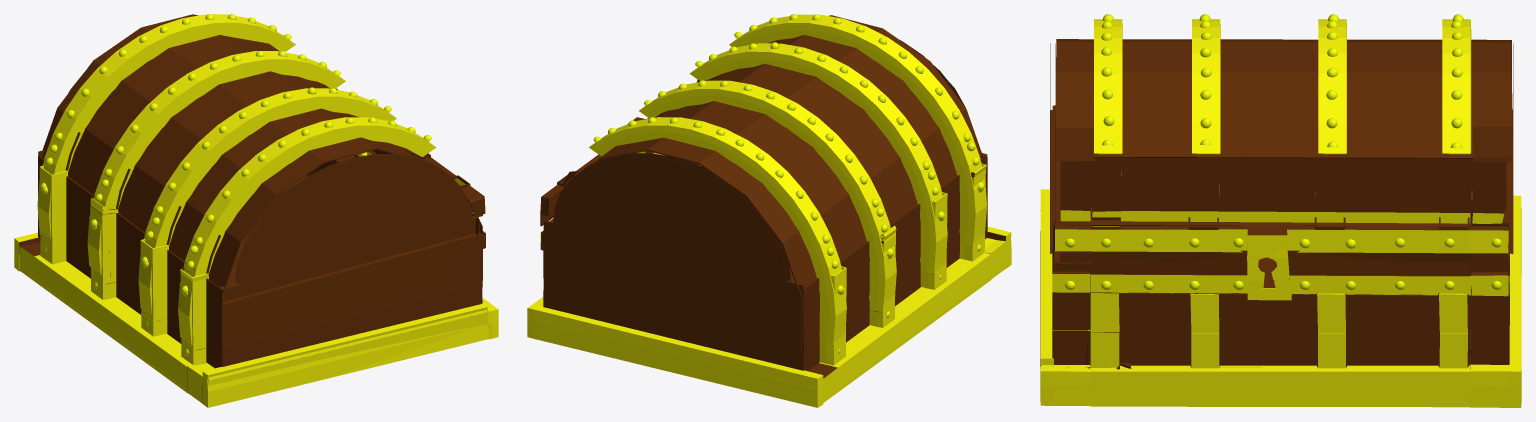
File: Treasure Box.fbx
3 views of the same model, side by side, from view 1: azimuth 30°, elevation 25°; view 2: azimuth 150°, elevation 25°; view 3: azimuth 270°, elevation 25° (orthographic). The views are drawn at different scales.
Visible parts, largest first — view 1: UpperDhakkan, Cylinder, Side halfcricle.001; view 2: UpperDhakkan, Cylinder, Side halfcricle; view 3: Cylinder, UpperDhakkan, Side halfcricle.001, Side halfcricle.
Boxes of the visible parts, left/top/right/bottom form: UpperDhakkan: left=37, top=14, right=436, bottom=345; Cylinder: left=14, top=88, right=498, bottom=407; Side halfcricle.001: left=235, top=154, right=473, bottom=284; UpperDhakkan: left=589, top=14, right=986, bottom=351; Cylinder: left=527, top=79, right=1011, bottom=407; Side halfcricle: left=552, top=153, right=791, bottom=283; Cylinder: left=1040, top=105, right=1521, bottom=407; UpperDhakkan: left=1056, top=19, right=1512, bottom=184; Side halfcricle.001: left=1050, top=43, right=1055, bottom=253; Side halfcricle: left=1506, top=43, right=1513, bottom=253.
Bounding box in the file's own units: 554 × 422 × 636.
